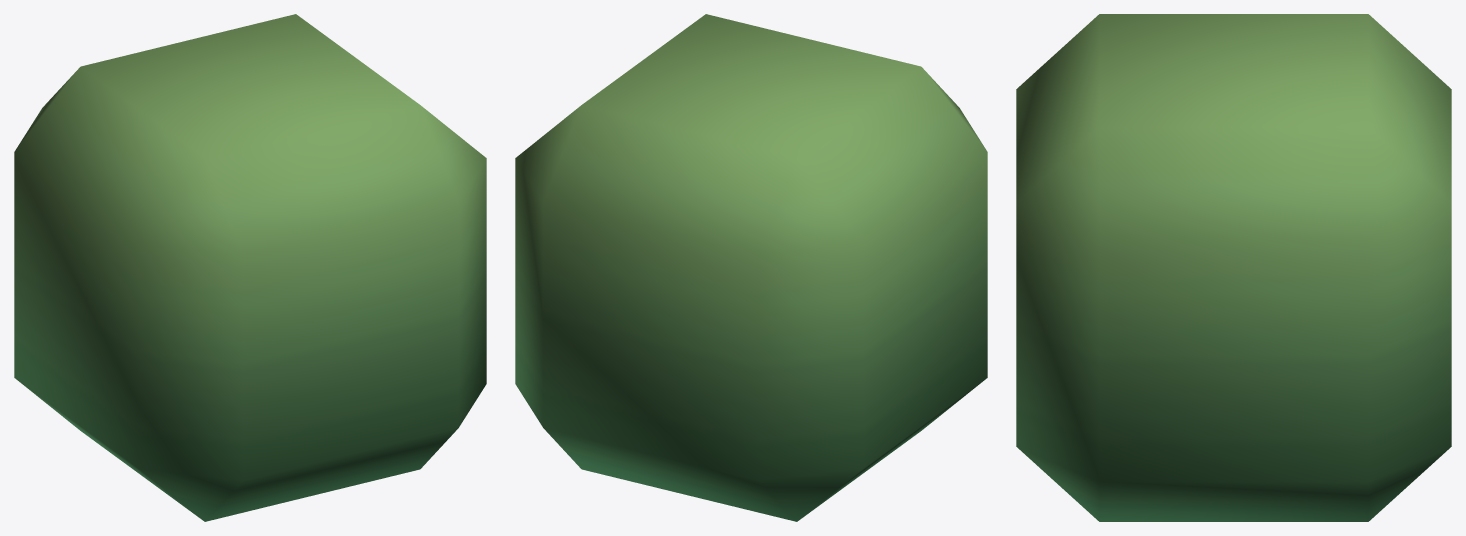
The model's file is bush_2_a-BW3Zjmfa.glb.
3 views of the same model, side by side, from view 1: azimuth 30°, elevation 25°; view 2: azimuth 150°, elevation 25°; view 3: azimuth 270°, elevation 25° (orthographic). The views are drawn at different scales.
Parts seen in each view (by area): view 1: Bush_2_A_Color1; view 2: Bush_2_A_Color1; view 3: Bush_2_A_Color1.
Part boxes in pixels (left/top/right/bottom): Bush_2_A_Color1: left=14, top=14, right=486, bottom=521; Bush_2_A_Color1: left=515, top=14, right=987, bottom=521; Bush_2_A_Color1: left=1016, top=14, right=1451, bottom=521.
Size of the model in its own units: 1.37 by 1.37 by 1.37.
Materials: 1 (1 with a texture image).
